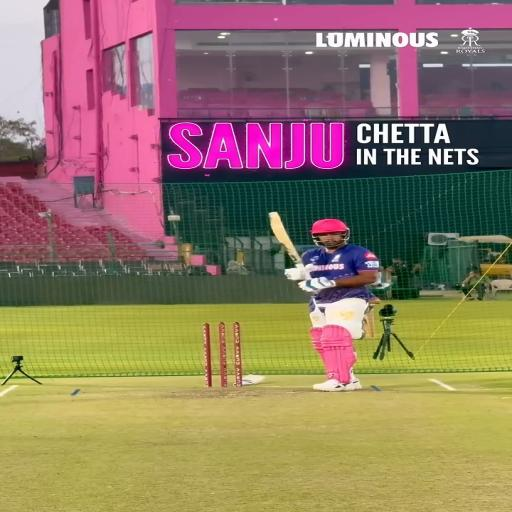Cricket bat: (269, 212, 304, 270)
